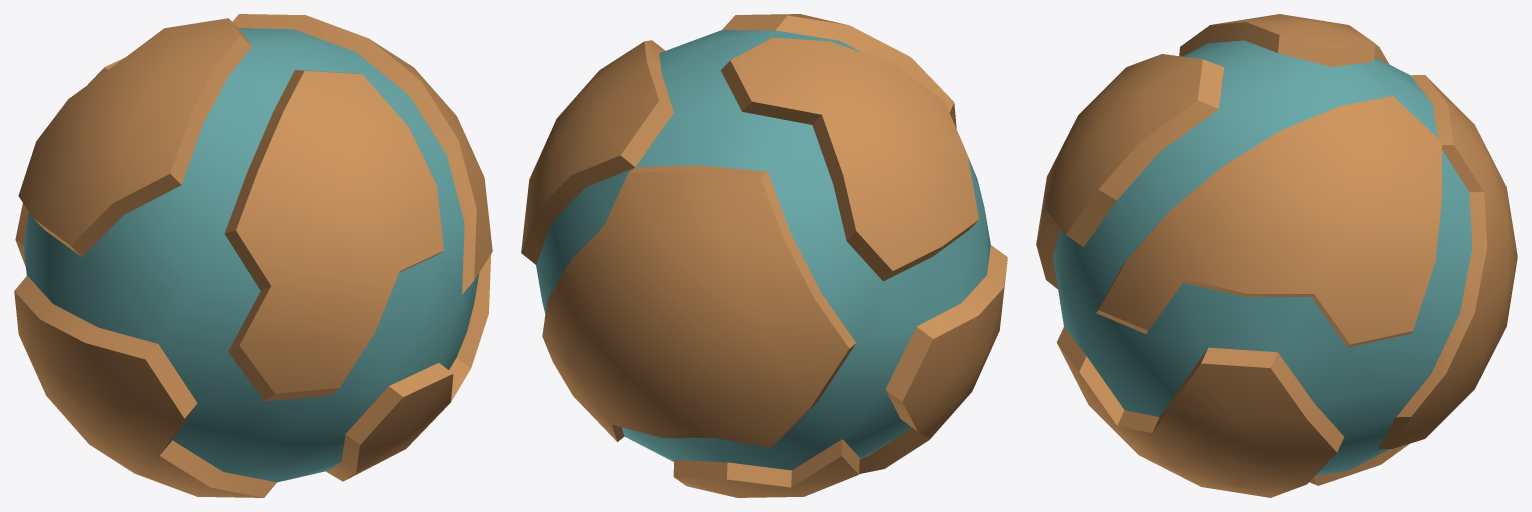
Rendered from Planet 2.glb.
3 renders of one model, left to right at view 1: azimuth 30°, elevation 25°; view 2: azimuth 150°, elevation 25°; view 3: azimuth 270°, elevation 25°, orthographic. The views are drawn at different scales.
Visible parts, largest first — view 1: Planet_2; view 2: Planet_2; view 3: Planet_2.
Part boxes in pixels (x1=…): Planet_2: x1=14, y1=14, x2=492, y2=497; Planet_2: x1=521, y1=14, x2=1007, y2=497; Planet_2: x1=1036, y1=14, x2=1517, y2=497.
Size of the model in its own units: 3.91 by 3.91 by 3.93.
Materials: 1 (1 with a texture image).
